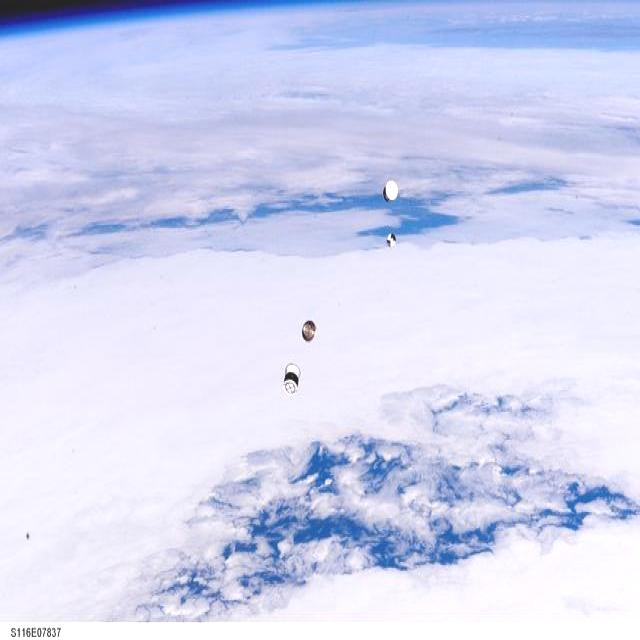satellite: (282, 362, 301, 396), (301, 320, 318, 342), (382, 180, 399, 202), (386, 232, 398, 247)
